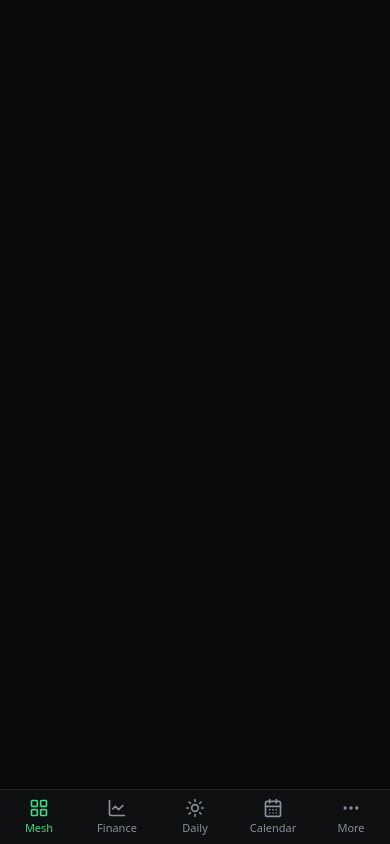
mobile bottom nav › "More" opens a sheet with the secondary tabs
Expected: the text "Analytics" is not shown
Click the button with aria-label "More tabs". click: (351, 817)
box: [312,790,389,843]
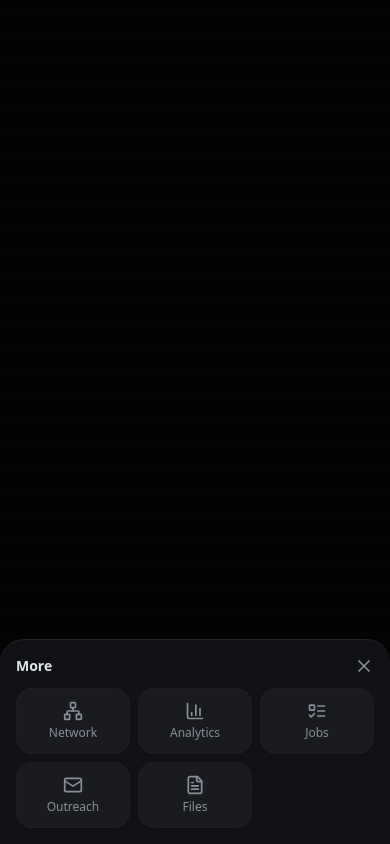
Now the link "Analytics" is shown, box [138,688,252,754]
Now the link "Network" is shown, box [16,688,130,754]
Now the link "Jobs" is shown, box [260,688,374,754]
